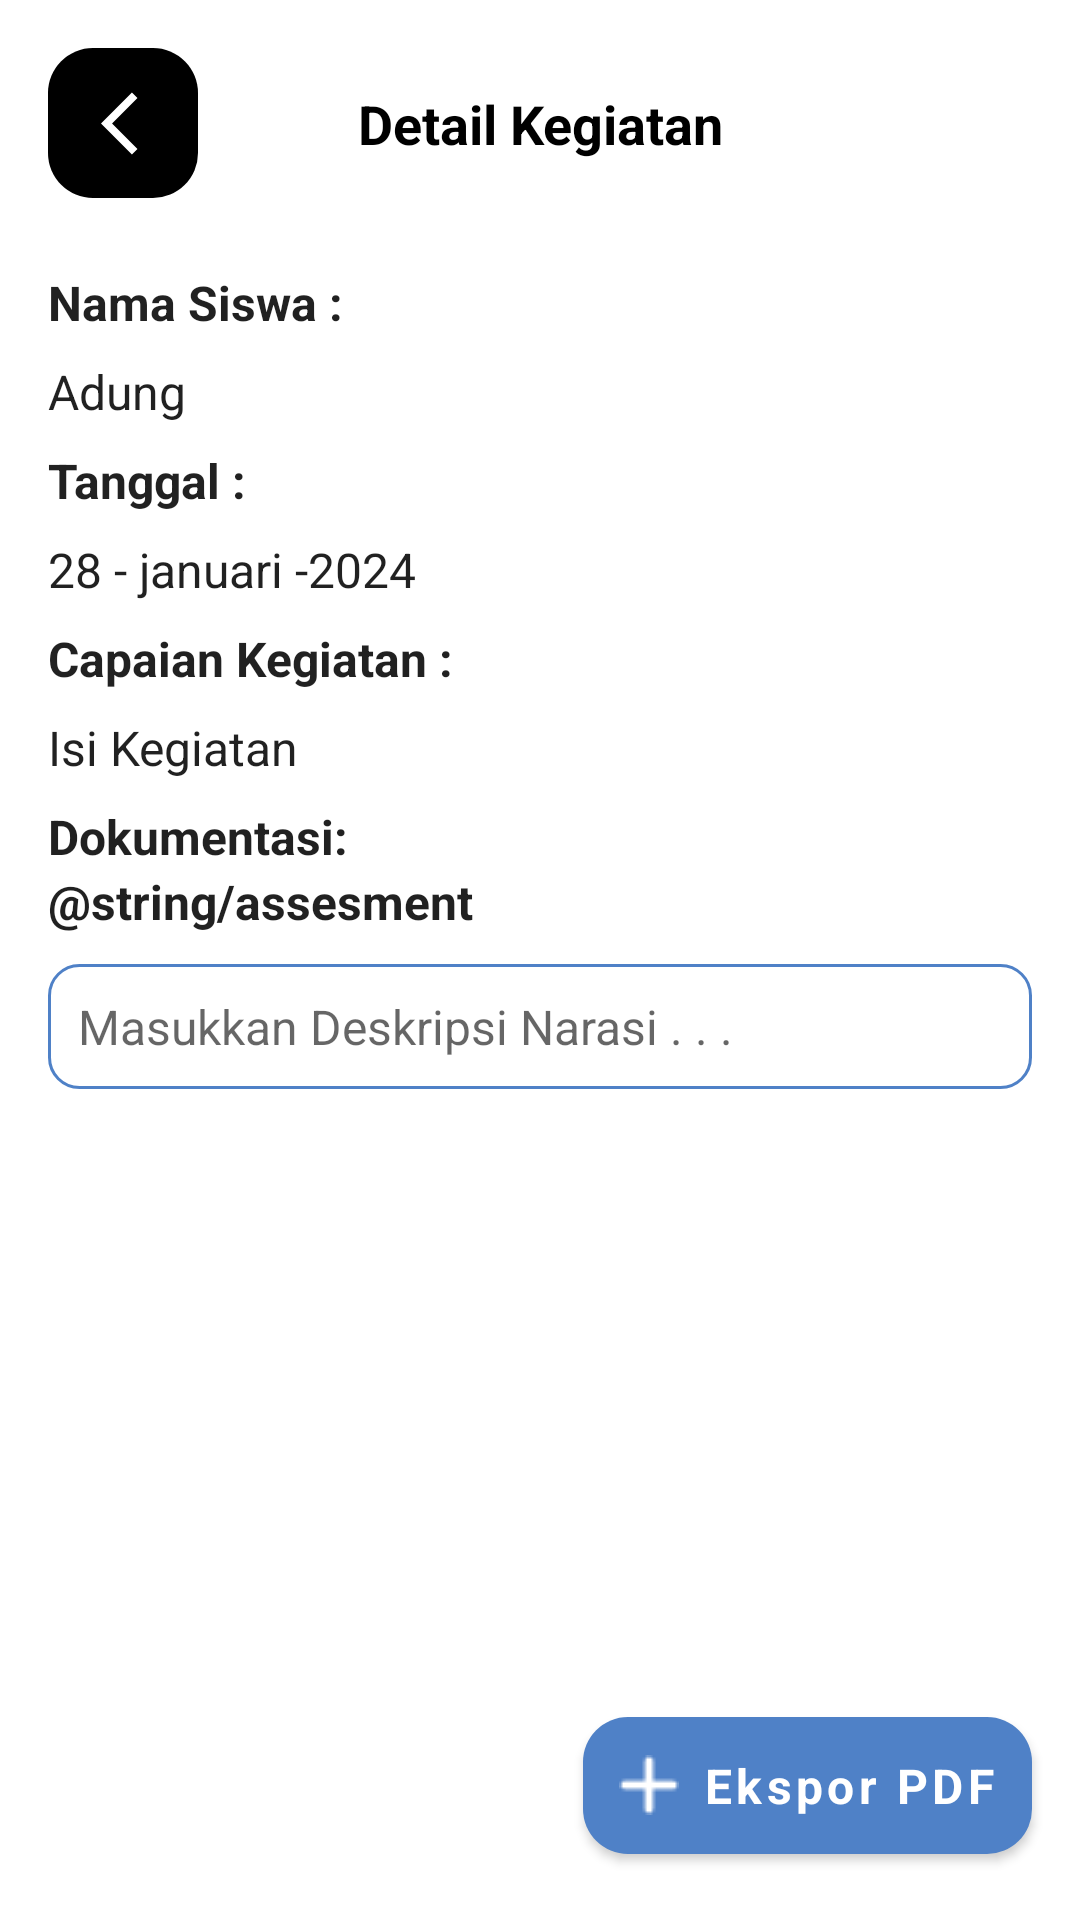

Screen size 1080x1920. Icon name, then its box in pixels as (left=x1, top=y1, right=x2, bottom=y2):
back: (left=101, top=92, right=138, bottom=155)
